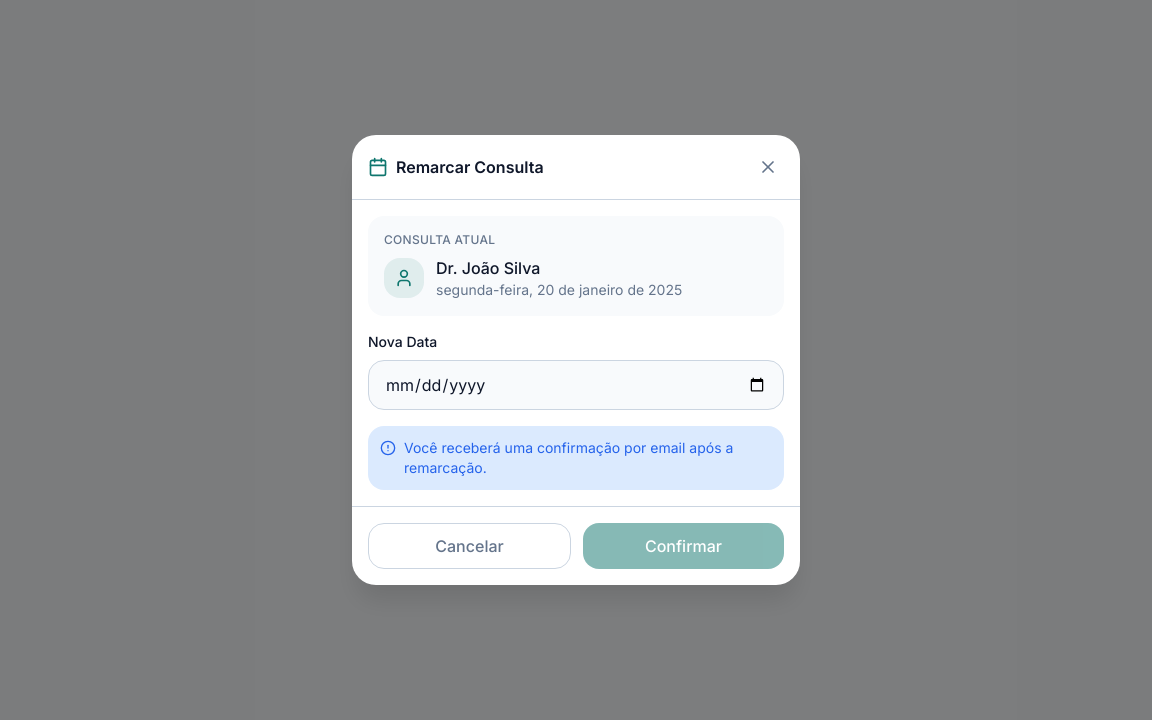
Scenario: RescheduleModal › date selection › should reset time when date changes
This screenshot has width=1152, height=720.
Step 1. Type "2025-02-20" into the date field → point(576, 385), box [368, 360, 784, 410]
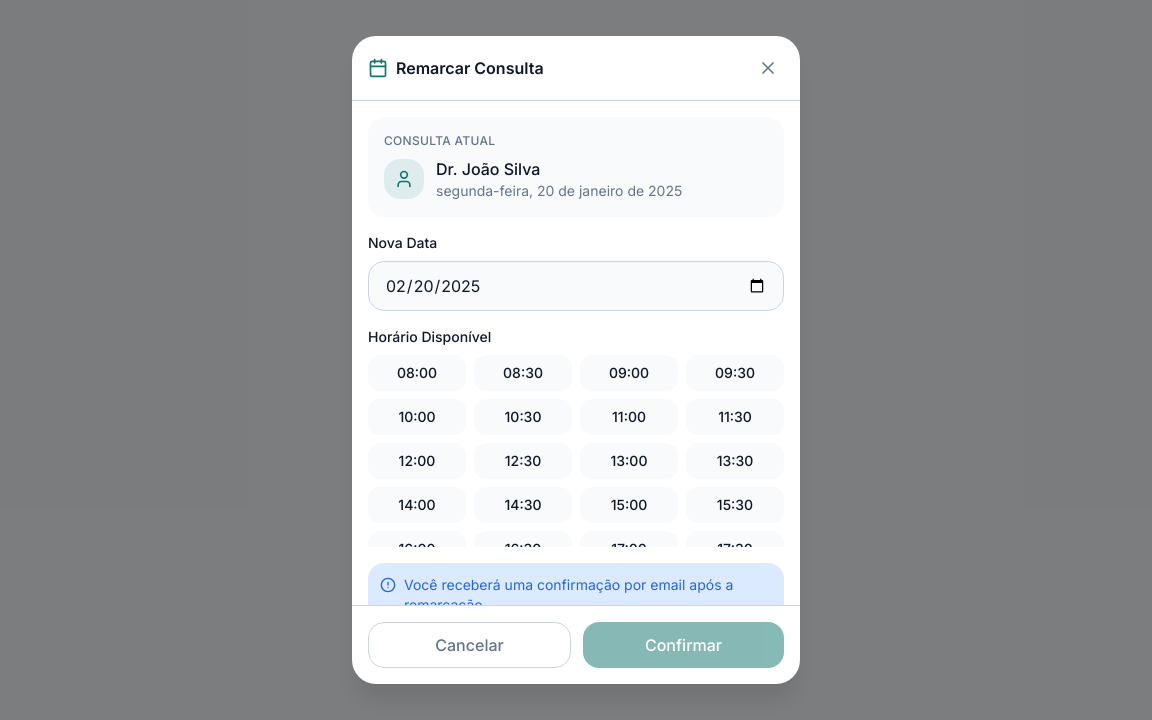
Select a time
Step 2. Click the button "10:00" → point(417, 417), box [368, 399, 466, 435]
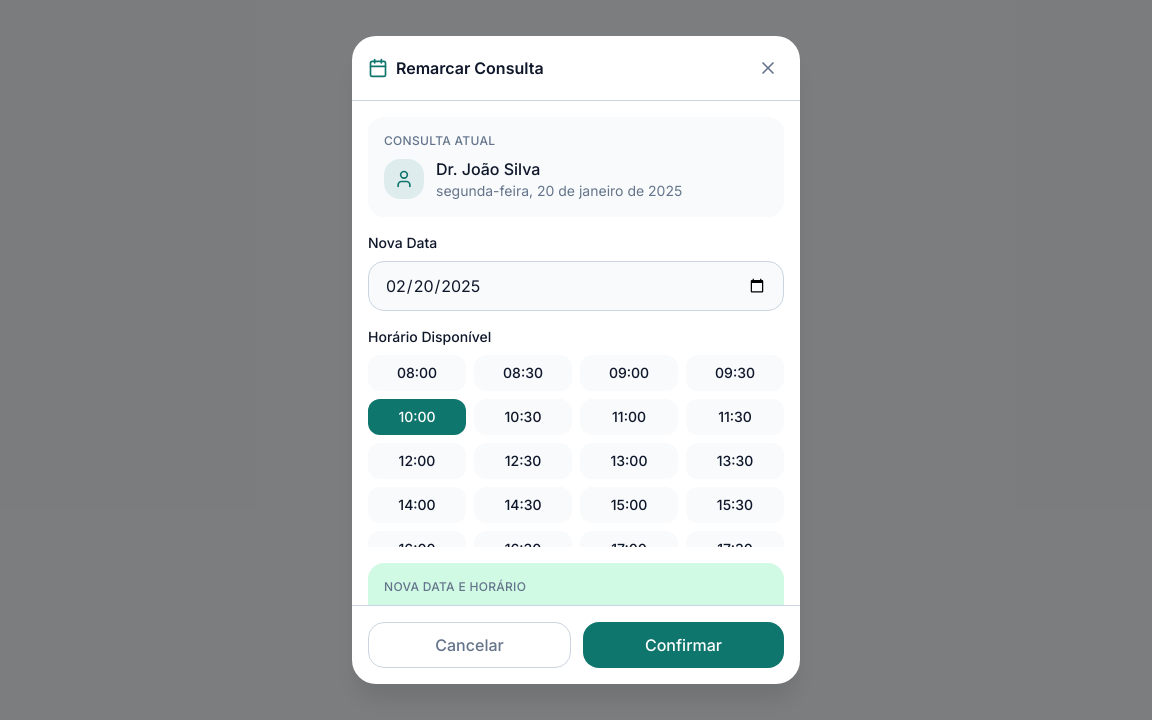
Change date
Step 3. Type "2025-02-21" into the date field → point(576, 286), box [368, 261, 784, 311]
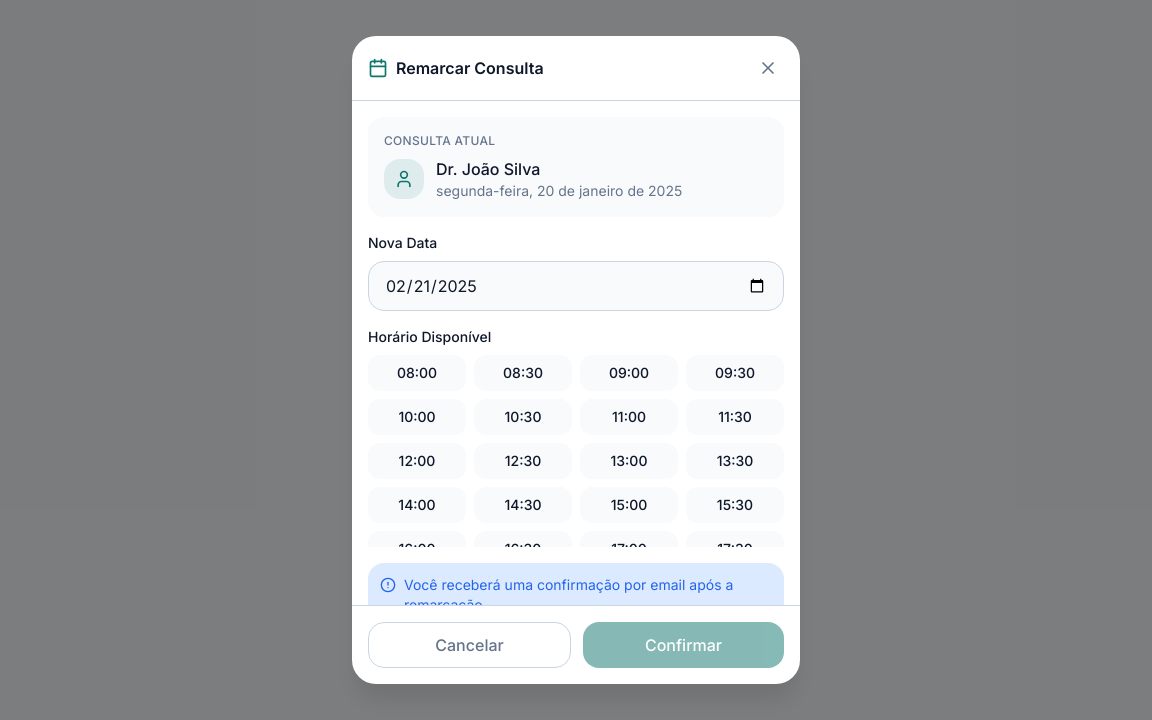
Result: the text "Nova Data e Horário" is gone
